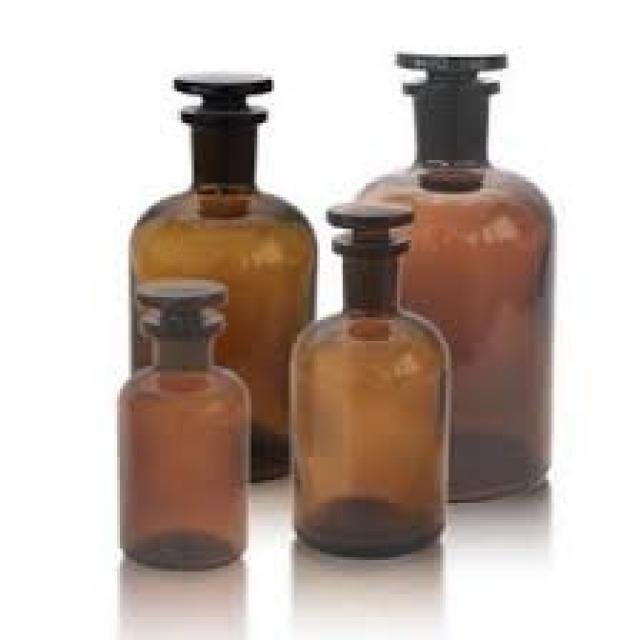Glass: (359, 96, 556, 502), (123, 126, 319, 485), (288, 257, 453, 557), (107, 337, 250, 573)
